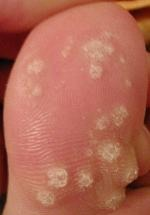Warts: (14, 27, 140, 211)
